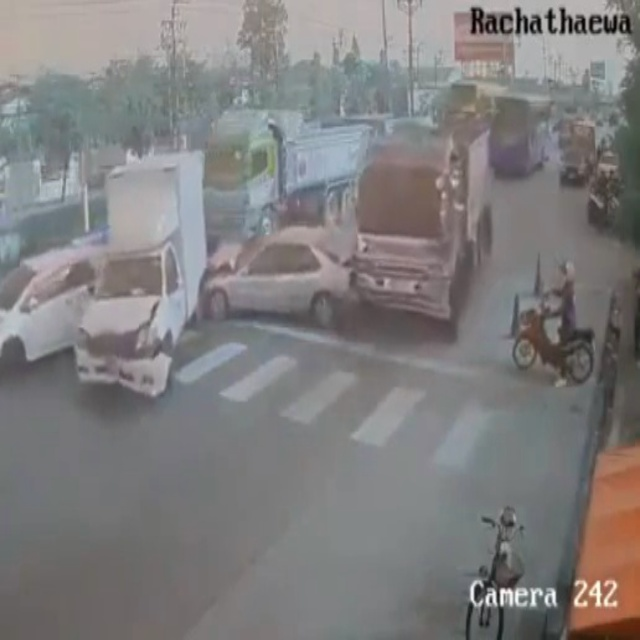acc: (80, 230, 388, 398)
